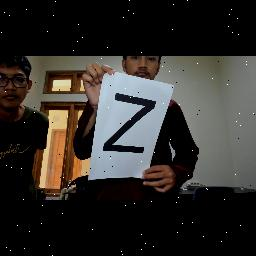z: (99, 91, 159, 167)
